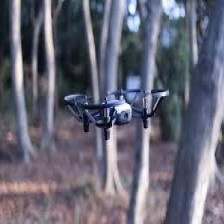drone: (80, 83, 152, 134)
